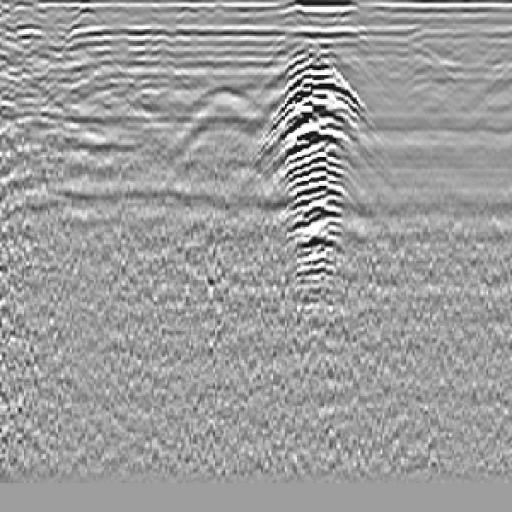metalic: (236, 34, 393, 324)
nonmetalic: (156, 71, 288, 183)
